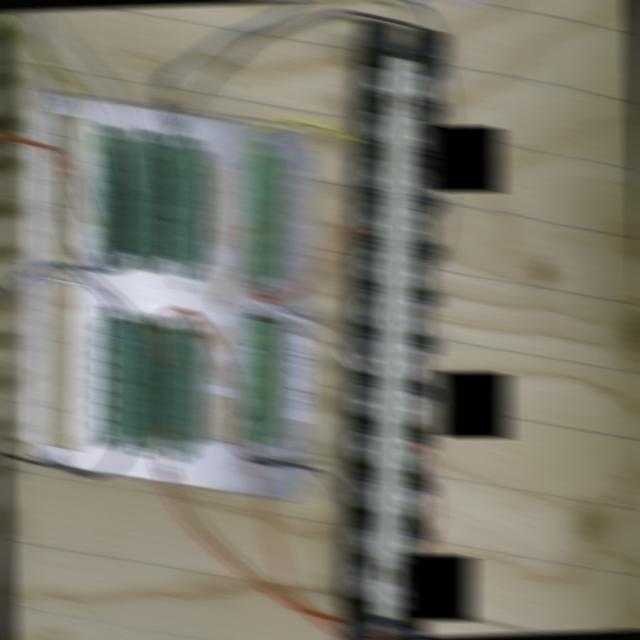Flathead_Block: (341, 19, 448, 640)
Terminal_1: (241, 318, 278, 446), (244, 151, 280, 278)
Terminal_2: (128, 137, 163, 258), (124, 327, 159, 447), (161, 332, 196, 451), (90, 132, 124, 254), (167, 143, 201, 264)
